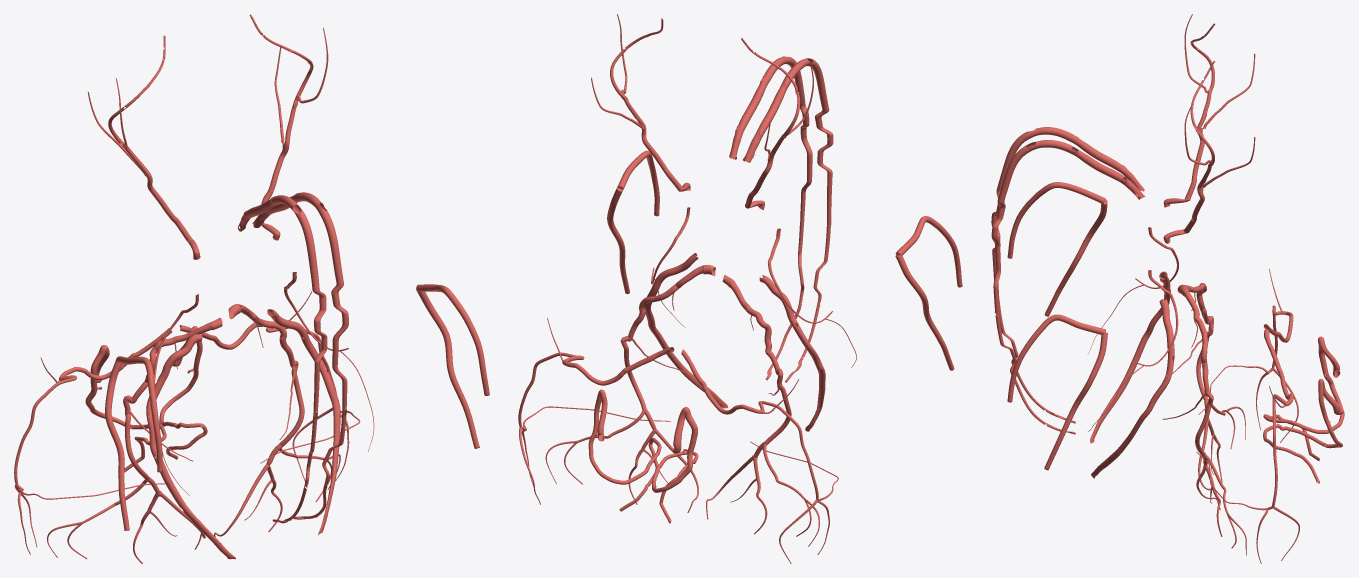
The picture shows the model from 3 angles, left to right: view 1: azimuth 30°, elevation 25°; view 2: azimuth 150°, elevation 25°; view 3: azimuth 270°, elevation 25°; orthographic projection. The views are drawn at different scales.
Visible parts, largest first — view 1: PCA P2-P3 left, PCA P2-P3 right, SCA left, SCA right, Ophthalmic left, MCA inferior division left, Ophthalmic right, MCA inferior division right, AICA left, ACA A4 left, ACA A4 right, MCA superior division right (+4 smaller); view 2: SCA right, SCA left, PCA P2-P3 right, PCA P2-P3 left, AICA right, AICA left, Ophthalmic right, ACA A2 left, ACA A2 right, Ophthalmic left, ACA A4 left, MCA superior division left (+4 smaller); view 3: PCA P2-P3 right, PCA P2-P3 left, SCA right, Ophthalmic left, MCA superior division right, ACA A2 right, ACA A2 left, MCA inferior division right, MCA superior division left, Ophthalmic right, AICA right, ACA A4 right (+5 smaller).
Boxes of the visible parts, bbox=[...] form: PCA P2-P3 left: bbox=[146, 333, 235, 559]; PCA P2-P3 right: bbox=[267, 309, 340, 534]; SCA left: bbox=[123, 318, 222, 496]; SCA right: bbox=[228, 304, 304, 465]; Ophthalmic left: bbox=[108, 35, 200, 259]; MCA inferior division left: bbox=[105, 360, 129, 530]; Ophthalmic right: bbox=[249, 14, 313, 240]; MCA inferior division right: bbox=[416, 289, 479, 448]; AICA left: bbox=[14, 328, 172, 484]; ACA A4 left: bbox=[311, 276, 327, 434]; ACA A4 right: bbox=[331, 276, 348, 431]; MCA superior division right: bbox=[416, 284, 489, 395]; SCA right: bbox=[620, 265, 715, 429]; SCA left: bbox=[722, 275, 791, 459]; PCA P2-P3 right: bbox=[645, 253, 727, 408]; PCA P2-P3 left: bbox=[759, 275, 825, 431]; AICA right: bbox=[518, 347, 674, 427]; AICA left: bbox=[681, 349, 818, 499]; Ophthalmic right: bbox=[610, 18, 690, 191]; ACA A2 left: bbox=[742, 60, 805, 162]; ACA A2 right: bbox=[729, 57, 784, 159]; Ophthalmic left: bbox=[741, 38, 800, 209]; ACA A4 left: bbox=[815, 100, 833, 243]; MCA superior division left: bbox=[895, 216, 962, 287]; PCA P2-P3 right: bbox=[1091, 298, 1174, 478]; PCA P2-P3 left: bbox=[1090, 271, 1170, 443]; SCA right: bbox=[1178, 285, 1213, 465]; Ophthalmic left: bbox=[1163, 23, 1215, 207]; MCA superior division right: bbox=[1007, 314, 1105, 402]; ACA A2 right: bbox=[1041, 140, 1145, 199]; ACA A2 left: bbox=[1043, 127, 1144, 191]; MCA inferior division right: bbox=[1044, 332, 1107, 470]; MCA superior division left: bbox=[1007, 182, 1105, 258]; Ophthalmic right: bbox=[1163, 60, 1215, 243]; AICA right: bbox=[1264, 329, 1293, 507]; ACA A4 right: bbox=[991, 194, 1005, 333].
Size of the model in its own units: 99.3 by 141 by 96.63.
